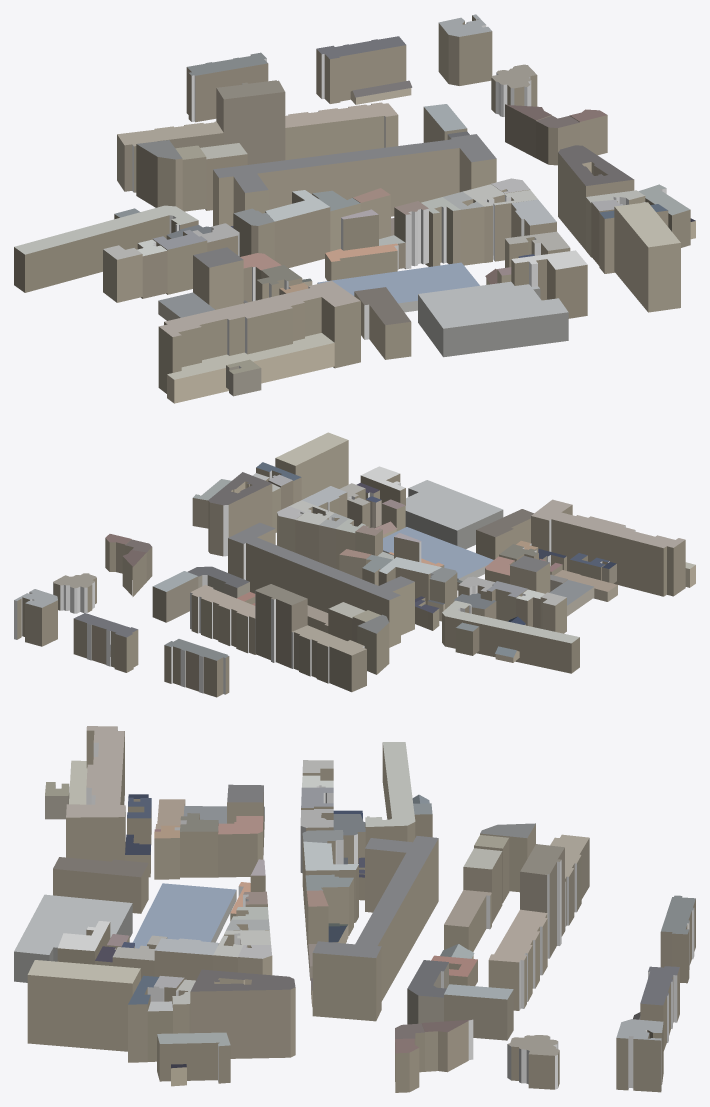
3 renders of one model, top to bottom at view 1: azimuth 30°, elevation 25°; view 2: azimuth 150°, elevation 25°; view 3: azimuth 270°, elevation 25°, orthographic. The views are drawn at different scales.
Visible parts, largest first — view 1: tuile; view 2: tuile; view 3: tuile.
Boxes of the visible parts, left/top/right/bottom form: tuile: left=14, top=14, right=695, bottom=403; tuile: left=14, top=432, right=695, bottom=697; tuile: left=14, top=726, right=695, bottom=1092.
Size of the model in its own units: 285 by 39.48 by 271.
